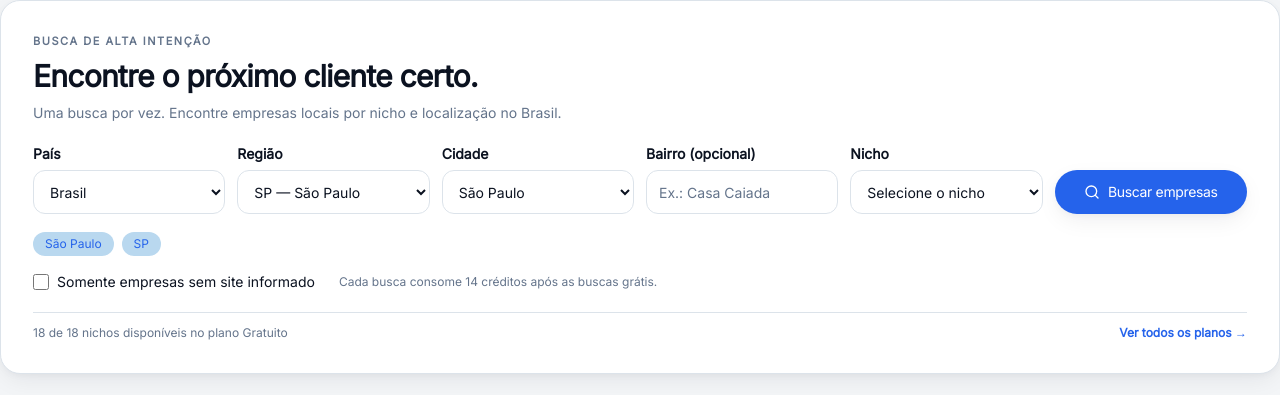
Test: Prospecting from client map › shows active category, neighborhood, and no-website filters as chips
Type "Pinheiros" into the field labelled "Bairro (opcional)".
click(742, 192); type("Pinheiros")  # box [646,170,838,214]
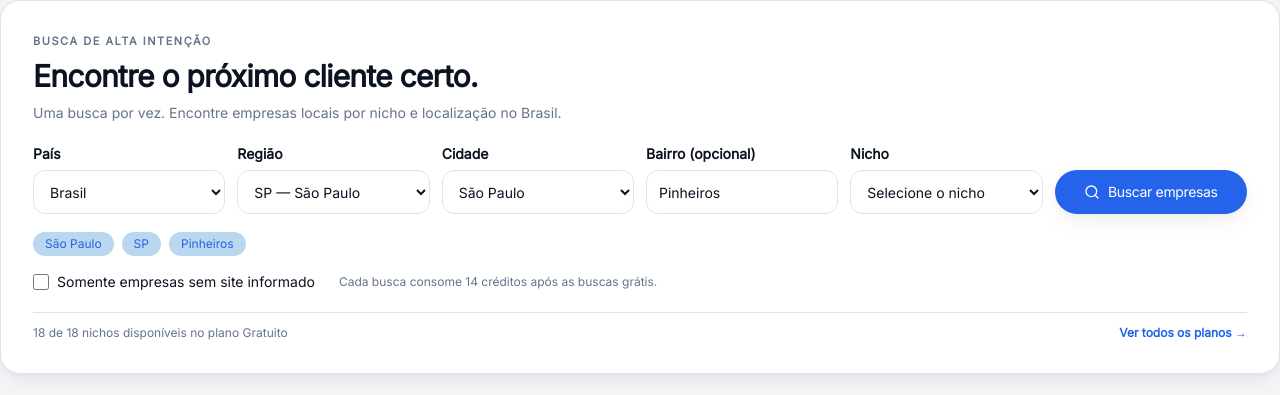
Select "Restaurante" in the dropdown labelled "Nicho" at x=946, y=192, box [850,170,1043,214]
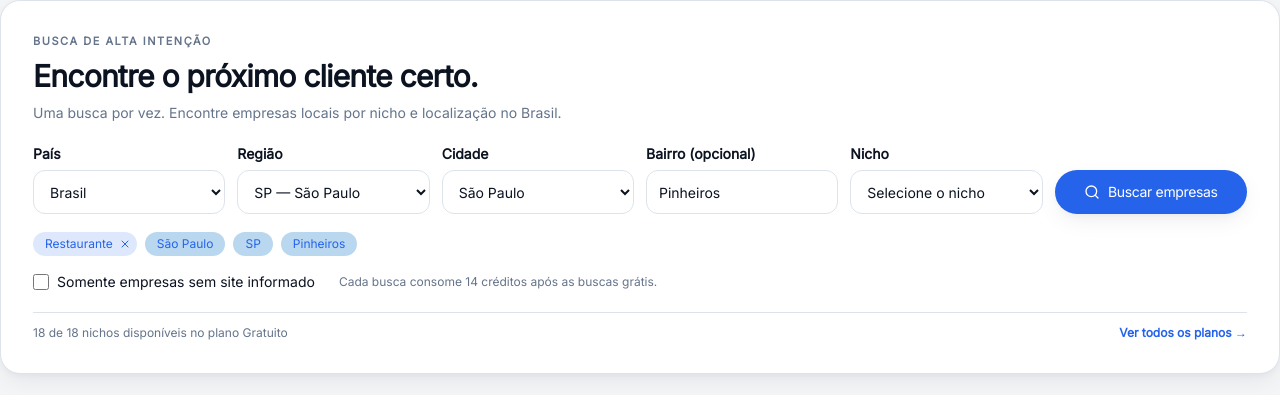
Click the checkbox labelled "Somente empresas sem site informado".
click(41, 282)  # box [33,274,49,290]
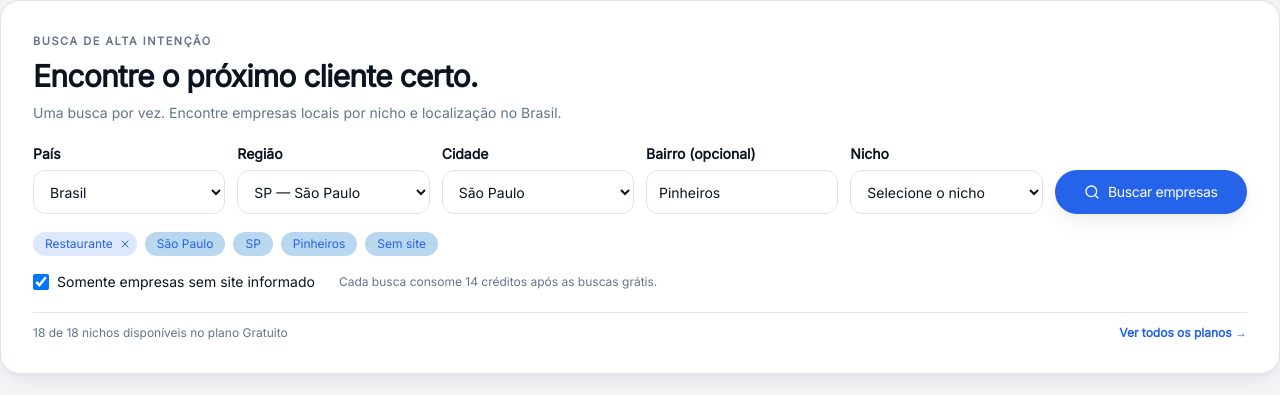
Now the text "Restaurante" is shown, box [33,232,137,256]
Now the text "Pinheiros" is shown, box [281,232,357,256]
Now the text "Sem site" is shown, box [365,232,438,256]
